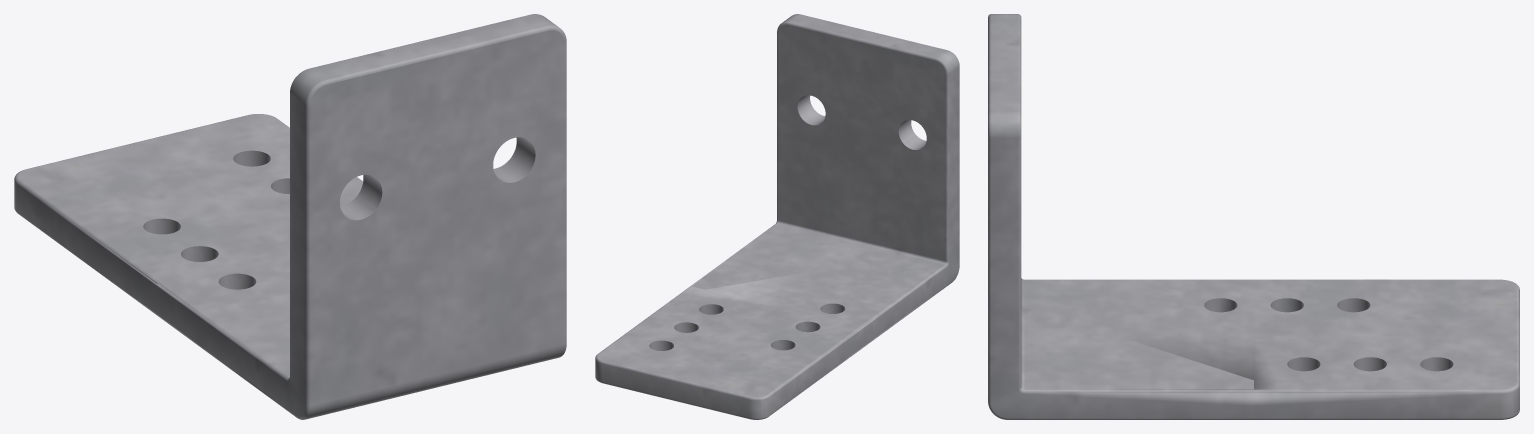
The picture shows the model from 3 angles, left to right: view 1: azimuth 30°, elevation 25°; view 2: azimuth 150°, elevation 25°; view 3: azimuth 270°, elevation 25°; orthographic projection. The views are drawn at different scales.
Parts seen in each view (by area): view 1: obj2; view 2: obj2; view 3: obj2.
Part boxes in pixels (x1,y1,x2,y2): obj2: (14,14,566,419); obj2: (595,14,959,419); obj2: (988,14,1519,419).
Bounding box in the file's own units: 0.04 × 0.05 × 0.08.
1 material, 1 textured.
